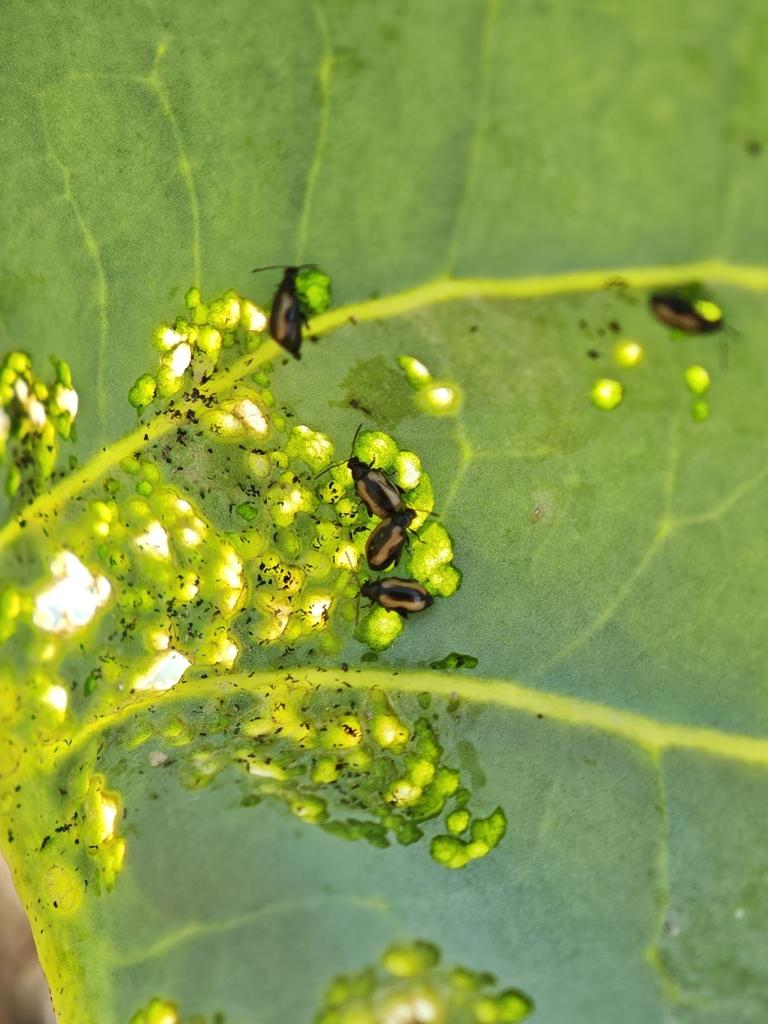flea_beetle: (295, 420, 426, 527), (233, 244, 339, 373), (621, 280, 738, 358), (341, 493, 429, 578), (340, 562, 447, 626)
